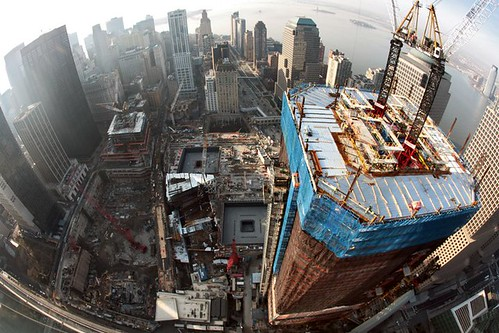building: (276, 89, 480, 332), (31, 39, 102, 148), (9, 110, 83, 192), (98, 113, 155, 191), (276, 18, 325, 94), (114, 30, 167, 96), (166, 3, 199, 98), (205, 60, 241, 120)
